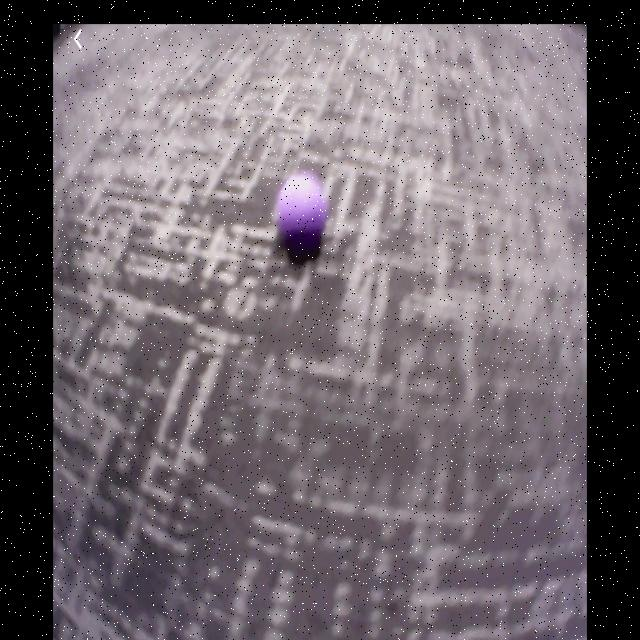ball: (274, 175, 327, 254)
